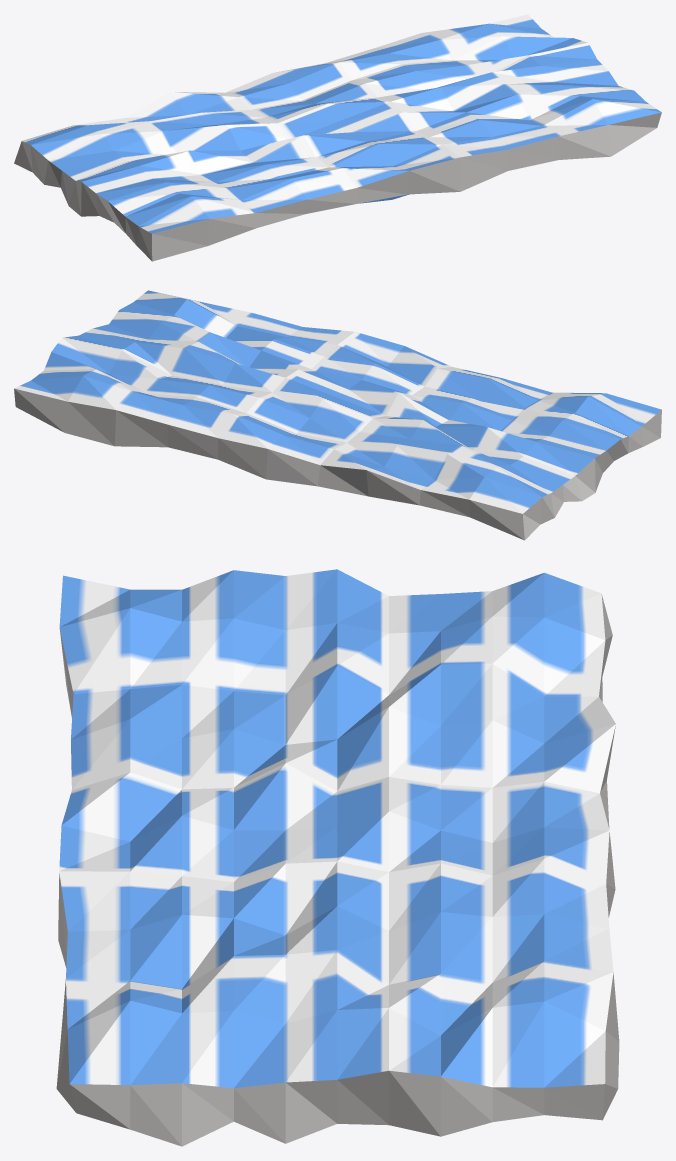
File: satellite_TRASH.fbx
The picture shows the model from 3 angles, top to bottom: view 1: azimuth 30°, elevation 25°; view 2: azimuth 150°, elevation 25°; view 3: azimuth 270°, elevation 25°; orthographic projection. The views are drawn at different scales.
Visible parts, largest first — view 1: pCube9; view 2: pCube9; view 3: pCube9.
Boxes of the visible parts, box(x1,y1,x2,y2) form: pCube9: box(14, 14, 661, 261); pCube9: box(14, 290, 661, 540); pCube9: box(56, 569, 619, 1146).
Bounding box in the file's own units: 7.28 × 0.7068 × 3.41.
